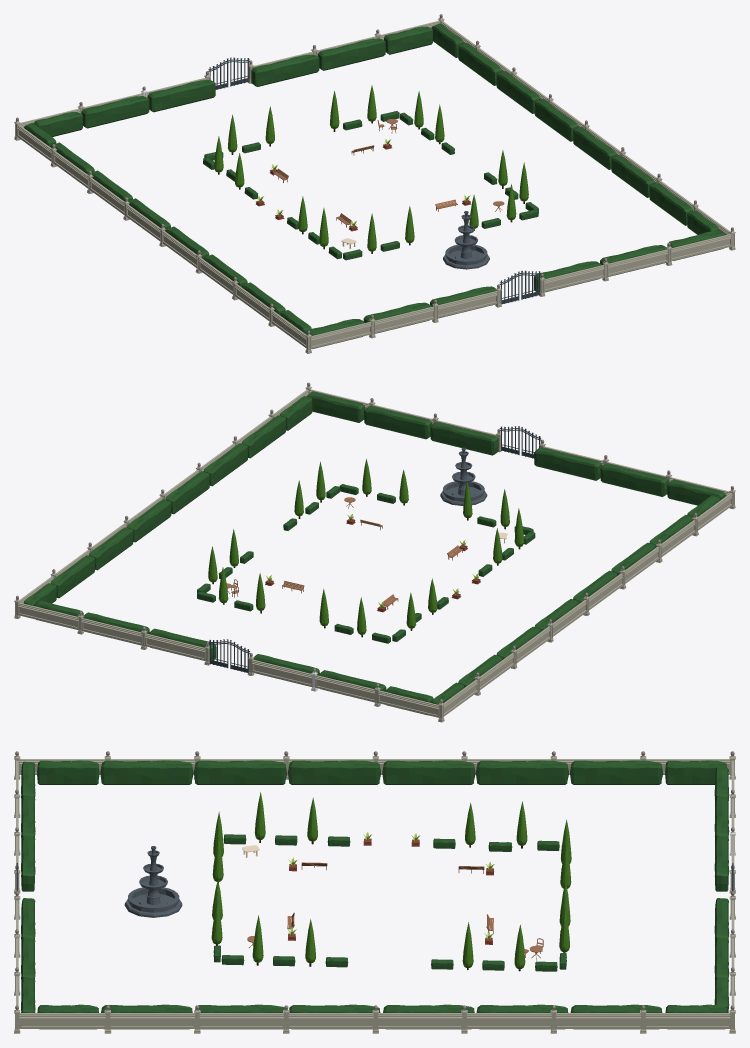
Rendered from worldFloor_ver5.glb.
The picture shows the model from 3 angles, top to bottom: view 1: azimuth 30°, elevation 25°; view 2: azimuth 150°, elevation 25°; view 3: azimuth 270°, elevation 25°; orthographic projection. The views are drawn at different scales.
Parts seen in each view (by area): view 1: Plane.006_Plane.001, Cube.031_Cube.1195, Cube.031_Cube.1194, Cube.031_Cube.1192, Cube.031_Cube.1193, Cube.031_Cube.1217, Cube.031_Cube.1205, Cube.031_Cube.1207, Cube.031_Cube.1203, Cube.031_Cube.1206, Cube.031_Cube.1204, Cube.031_Cube.1202 (+9 smaller); view 2: Cube.031_Cube.1191, Cube.031_Cube.1189, Cube.031_Cube.1188, Cube.031_Cube.1190, Plane.006_Plane.001, Cube.031_Cube.1210, Cube.031_Cube.1205, Cube.031_Cube.1206, Cube.031_Cube.1204, Cube.031_Cube.1203, Cube.031_Cube.1207, Cube.031_Cube.1208 (+9 smaller); view 3: Cube.031_Cube.1196, Cube.031_Cube.1199, Cube.031_Cube.1197, Cube.031_Cube.1198, Cube.031_Cube.1200, Cube.031_Cube.1201, Plane.006_Plane.001, Cube.031_Cube.1209, Cube.031_Cube.1214, Cube.031_Cube.1135, Cube.031_Cube.1140, Cube.031_Cube.1150 (+23 smaller).
Boxes of the visible parts, bbox=[...] form: Plane.006_Plane.001: bbox=[443, 211, 489, 269]; Cube.031_Cube.1195: bbox=[251, 54, 319, 86]; Cube.031_Cube.1194: bbox=[317, 38, 385, 70]; Cube.031_Cube.1192: bbox=[147, 79, 215, 112]; Cube.031_Cube.1193: bbox=[81, 96, 149, 128]; Cube.031_Cube.1217: bbox=[384, 26, 432, 54]; Cube.031_Cube.1205: bbox=[534, 99, 578, 141]; Cube.031_Cube.1207: bbox=[458, 43, 502, 85]; Cube.031_Cube.1203: bbox=[611, 155, 655, 197]; Cube.031_Cube.1206: bbox=[496, 71, 540, 113]; Cube.031_Cube.1204: bbox=[573, 127, 616, 169]; Cube.031_Cube.1202: bbox=[649, 183, 693, 225]; Cube.031_Cube.1191: bbox=[430, 422, 498, 455]; Cube.031_Cube.1189: bbox=[600, 463, 668, 496]; Cube.031_Cube.1188: bbox=[534, 447, 602, 480]; Cube.031_Cube.1190: bbox=[364, 405, 432, 439]; Plane.006_Plane.001: bbox=[440, 447, 487, 505]; Cube.031_Cube.1210: bbox=[307, 391, 364, 422]; Cube.031_Cube.1205: bbox=[127, 499, 171, 542]; Cube.031_Cube.1206: bbox=[89, 527, 133, 570]; Cube.031_Cube.1204: bbox=[165, 471, 209, 514]; Cube.031_Cube.1203: bbox=[203, 443, 247, 486]; Cube.031_Cube.1207: bbox=[50, 555, 94, 598]; Cube.031_Cube.1208: bbox=[667, 479, 725, 505]; Cube.031_Cube.1196: bbox=[100, 760, 193, 784]; Cube.031_Cube.1199: bbox=[382, 760, 475, 784]; Cube.031_Cube.1197: bbox=[194, 760, 287, 784]; Cube.031_Cube.1198: bbox=[288, 760, 381, 784]; Cube.031_Cube.1200: bbox=[476, 760, 569, 784]; Cube.031_Cube.1201: bbox=[570, 760, 663, 784]; Plane.006_Plane.001: bbox=[124, 846, 182, 917]; Cube.031_Cube.1209: bbox=[37, 760, 99, 784]; Cube.031_Cube.1214: bbox=[665, 760, 726, 784]; Cube.031_Cube.1135: bbox=[108, 1017, 196, 1028]; Cube.031_Cube.1140: bbox=[197, 1017, 285, 1028]; Cube.031_Cube.1150: bbox=[375, 1017, 463, 1028].
Size of the model in its own units: 45.4 by 5.24 by 53.94.
